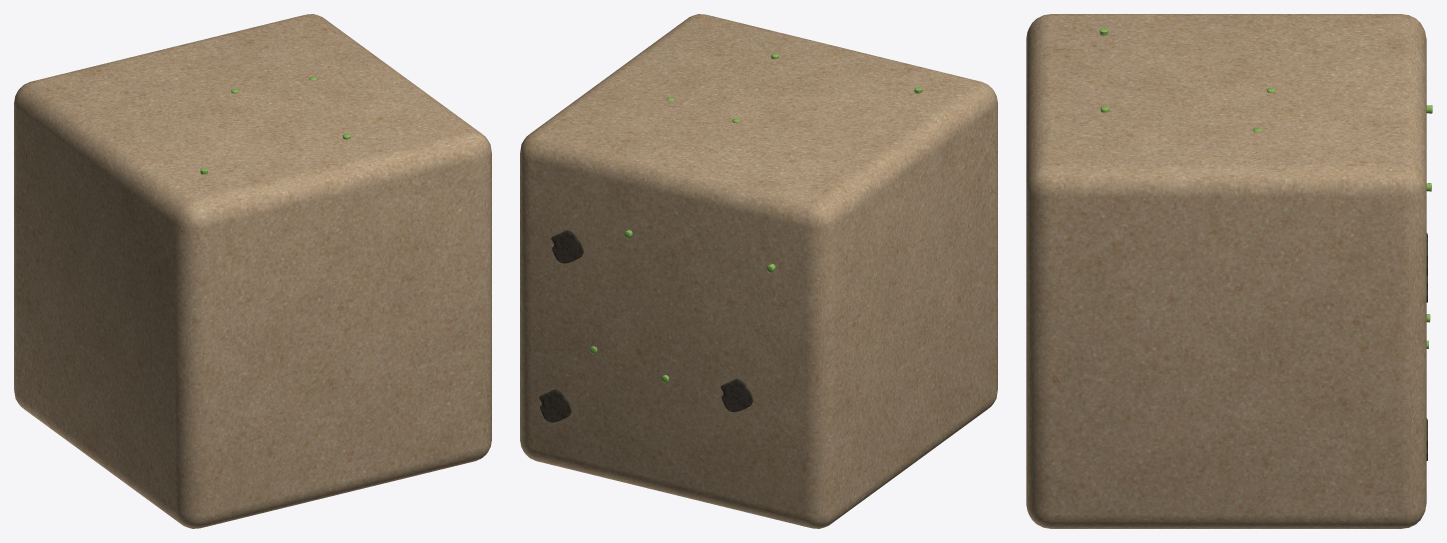
The model's file is test-lvl3.glb.
3 renders of one model, left to right at view 1: azimuth 30°, elevation 25°; view 2: azimuth 150°, elevation 25°; view 3: azimuth 270°, elevation 25°, orthographic. The views are drawn at different scales.
Parts seen in each view (by area): view 1: Cube; view 2: Cube, Mossy Rock.008, Mossy Rock.007, Mossy Rock.009; view 3: Cube.
Part boxes in pixels (x1=…): Cube: x1=14, y1=14, x2=491, y2=528; Cube: x1=520, y1=14, x2=997, y2=528; Mossy Rock.008: x1=720, y1=379, x2=753, y2=412; Mossy Rock.007: x1=539, y1=389, x2=571, y2=422; Mossy Rock.009: x1=551, y1=230, x2=583, y2=263; Cube: x1=1026, y1=14, x2=1426, y2=528.
Size of the model in its own units: 54.06 by 55.29 by 54.91.
3 materials, 2 textured.
